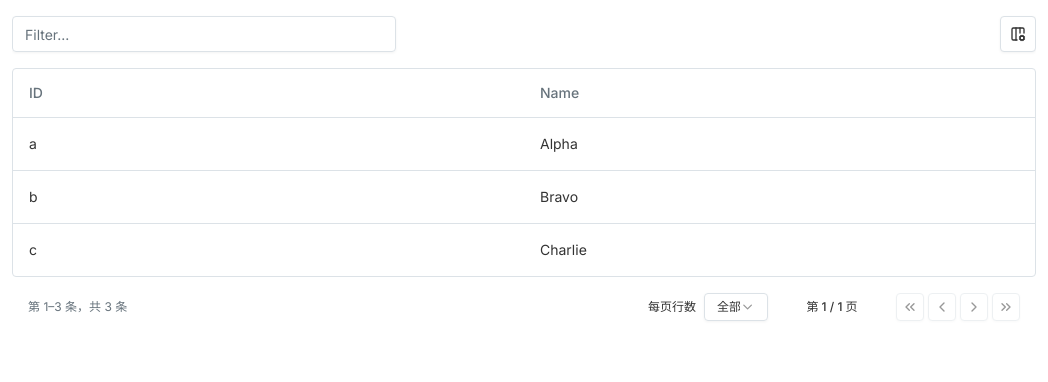
DataTable — empty results › renders a filter-empty Empty block ("没有匹配…的<entity>") when `entityName` is set and a filter is active
Note: No row in ROWS has the substring "ZZZZZZ" — guarantees an empty subset.
Type "ZZZZZZ" into the field with placeholder "Filter..." at (204, 34), box [13, 16, 395, 52]
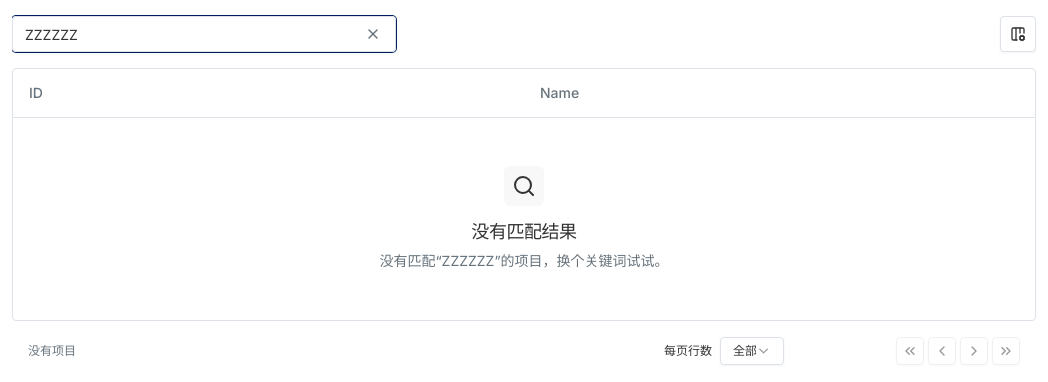
Result: the text "没有匹配结果" is shown at [471, 218, 577, 246]
Result: the text "没有匹配“ZZZZZZ”的项目，换个关键词试试。" is shown at [379, 250, 669, 272]
